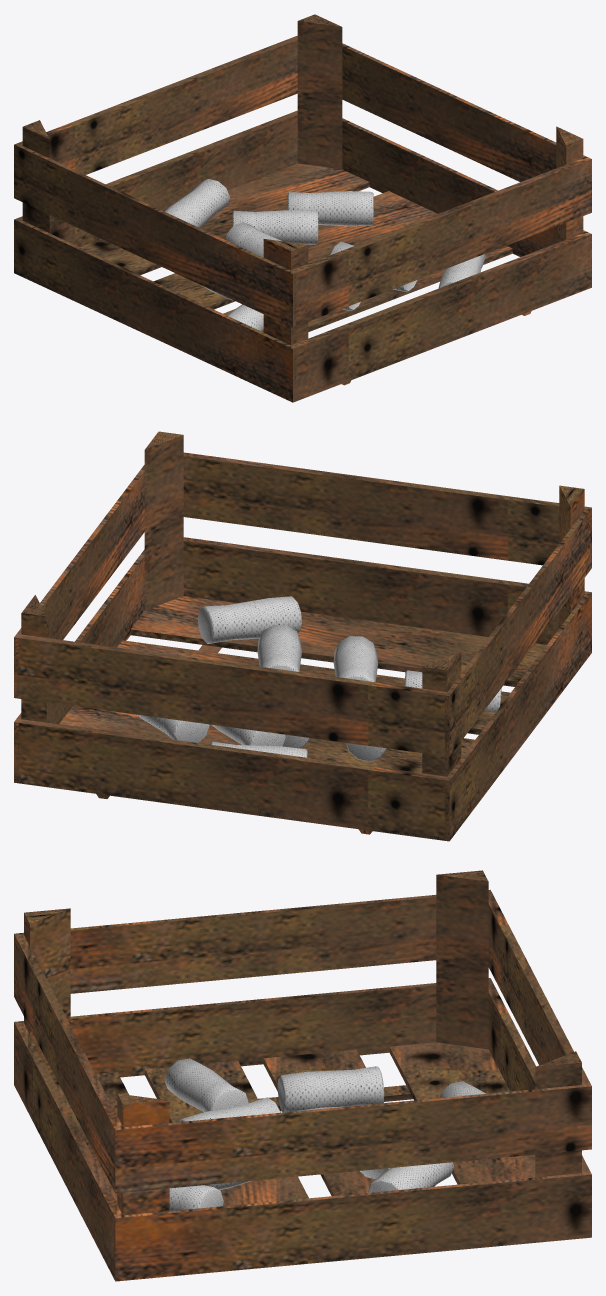
Rendered from boxes_Bandages.fbx.
3 renders of one model, top to bottom at view 1: azimuth 30°, elevation 25°; view 2: azimuth 150°, elevation 25°; view 3: azimuth 270°, elevation 25°, orthographic. The views are drawn at different scales.
Parts seen in each view (by area): view 1: Group1; view 2: Group1; view 3: Group1.
Boxes of the visible parts, <box> form: Group1: <box>14,14,591,402</box>; Group1: <box>14,431,591,841</box>; Group1: <box>14,870,591,1281</box>.
Size of the model in its own units: 572 by 202 by 581.
